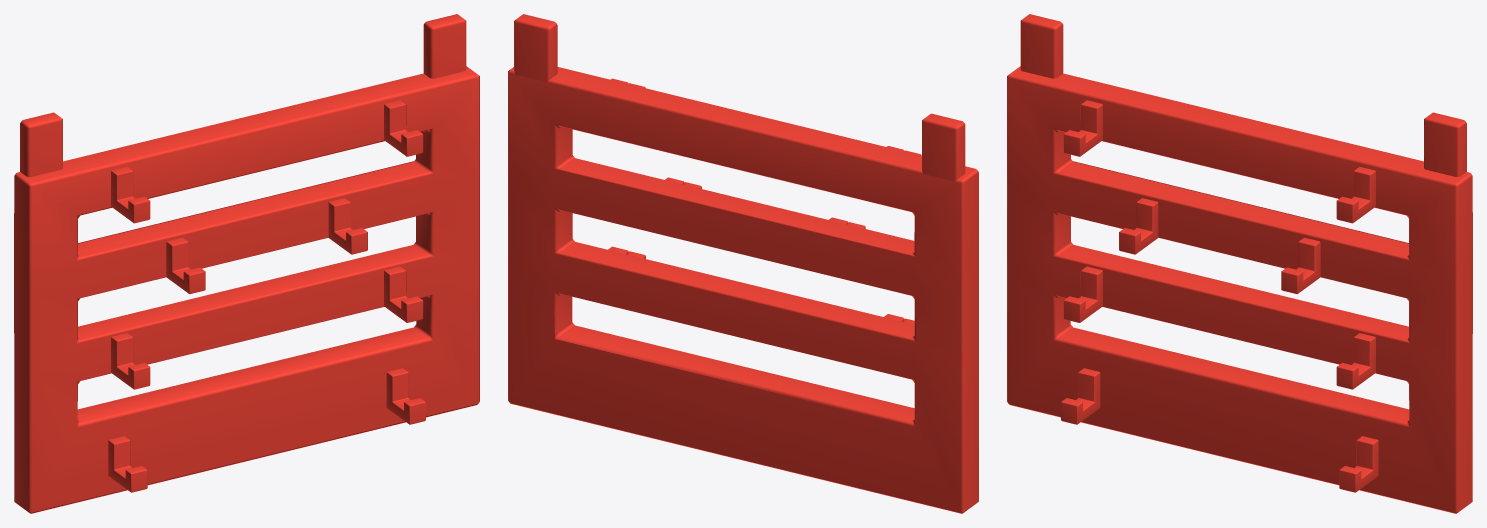
File: Public_11_Fire_stand_1.glb
3 renders of one model, left to right at view 1: azimuth 30°, elevation 25°; view 2: azimuth 150°, elevation 25°; view 3: azimuth 330°, elevation 25°, orthographic.
Parts seen in each view (by area): view 1: Public_11_Fire_stand_1; view 2: Public_11_Fire_stand_1; view 3: Public_11_Fire_stand_1.
Boxes of the visible parts, x1,y1,x2,y2 form: Public_11_Fire_stand_1: [14, 14, 479, 513]; Public_11_Fire_stand_1: [508, 14, 978, 513]; Public_11_Fire_stand_1: [1007, 14, 1472, 513].
Size of the model in its own units: 2.35 by 1.9 by 0.3626.
1 material, 1 textured.
